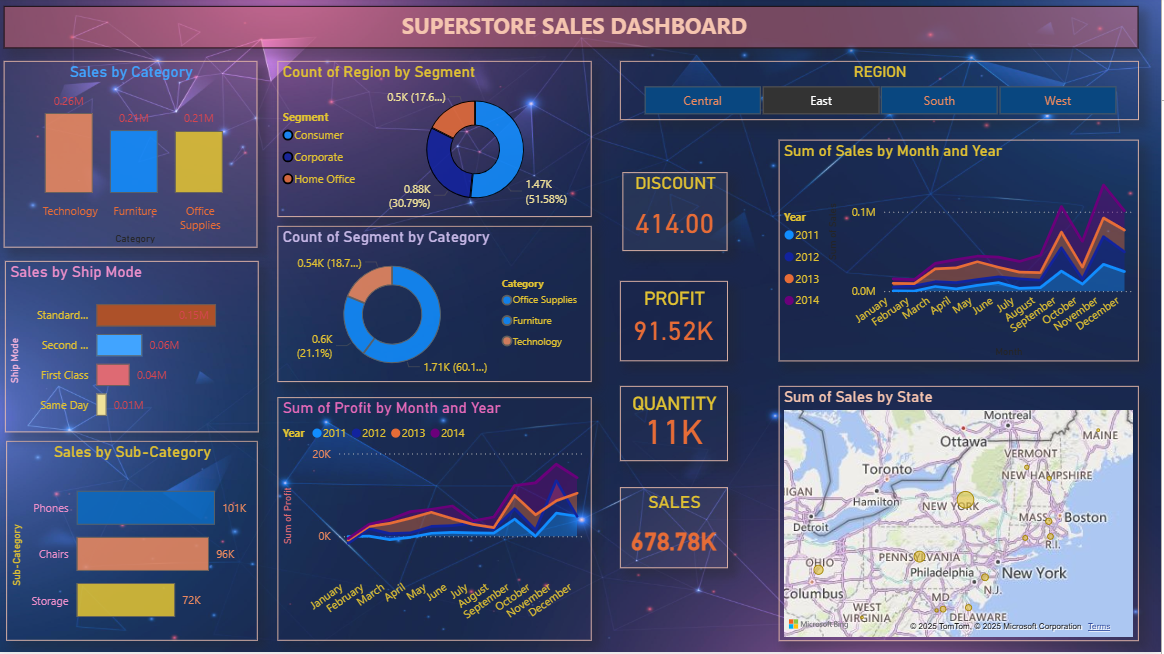

What the dashboard file says about the page in this screenshot:
{"tool":"powerbi","page":{"name":"Page 1","canvas":[1280,720],"ordinal":0},"visuals":[{"type":"clusteredColumnChart","title":"Sales by Category","fields":{"Y":["Sum(Orders.Sales)"],"Category":["Orders.Category"]},"box":[9.6,71.4,278.6,204.5],"z":1000},{"type":"slicer","title":"REGION","fields":{"Values":["Orders.Region"]},"box":[686.1,71.4,569.5,64.5],"z":2000},{"type":"stackedAreaChart","fields":{"Y":["Sum(Orders.Sales)"],"Category":["Orders.Order Date.Variation.Date Hierarchy.Month"],"Series":["Orders.Order Date.Variation.Date Hierarchy.Year"]},"box":[860.4,157.8,395.2,242.9],"z":4000},{"type":"stackedAreaChart","title":"Sum of Profit by Month and Year","fields":{"Category":["Orders.Order Date.Variation.Date Hierarchy.Month"],"Series":["Orders.Order Date.Variation.Date Hierarchy.Year"],"Y":["Sum(Orders.Profit)"]},"box":[310.1,440.5,344.4,267.6],"z":5000},{"type":"barChart","title":"Sales by Sub-Category","fields":{"Category":["Orders.Sub-Category"],"Y":["Sum(Orders.Sales)"]},"box":[12.3,488.5,275.8,219.6],"z":6000},{"type":"barChart","title":" Sales by Ship Mode","fields":{"Category":["Orders.Ship Mode"],"Y":["Sum(Orders.Sales)"]},"box":[11,290.9,278.6,188],"z":7000},{"type":"donutChart","fields":{"Y":["CountNonNull(Orders.Segment)"],"Category":["Orders.Category"]},"box":[310.1,252.5,344.4,171.5],"z":8000},{"type":"donutChart","fields":{"Category":["Orders.Segment"],"Y":["CountNonNull(Orders.Region)"]},"box":[310.1,71.4,344.4,171.5],"z":9000},{"type":"card","title":"PROFIT","fields":{"Values":["Sum(Orders.Profit)"]},"box":[686.1,312.9,118,87.8],"z":10000},{"type":"card","title":"SALES","fields":{"Values":["Sum(Orders.Sales)"]},"box":[686.1,539.3,118,89.2],"z":11000},{"type":"card","title":"QUANTITY","fields":{"Values":["Sum(Orders.Quantity)"]},"box":[686.1,428.1,118,82.3],"z":12000},{"type":"card","title":"DISCOUNT","fields":{"Values":["Sum(Orders.Discount)"]},"box":[688.9,193.5,115.3,86.4],"z":13000},{"type":"map","fields":{"Category":["Orders.State"],"Size":["Sum(Orders.Sales)"]},"box":[860.4,428.1,395.2,279.9],"z":14000},{"type":"textbox","box":[9.6,11,1246,46.7],"z":14001}]}

Visuals, with their boxes in screenshot pixels (x1, y1, x2, y2), scaled from the page's 1280x720 canvas onto the 1164x654 screenshot:
"Sales by Category" clusteredColumnChart: bbox(9, 65, 262, 251)
"REGION" slicer: bbox(624, 65, 1142, 123)
stackedAreaChart - Sum(Orders.Sales) x Orders.Order Date.Variation.Date Hierarchy.Month: bbox(782, 143, 1142, 364)
"Sum of Profit by Month and Year" stackedAreaChart: bbox(282, 400, 595, 643)
"Sales by Sub-Category" barChart: bbox(11, 444, 262, 643)
" Sales by Ship Mode" barChart: bbox(10, 264, 263, 435)
donutChart - CountNonNull(Orders.Segment) x Orders.Category: bbox(282, 229, 595, 385)
donutChart - Orders.Segment x CountNonNull(Orders.Region): bbox(282, 65, 595, 221)
"PROFIT" card: bbox(624, 284, 731, 364)
"SALES" card: bbox(624, 490, 731, 571)
"QUANTITY" card: bbox(624, 389, 731, 464)
"DISCOUNT" card: bbox(626, 176, 731, 254)
map - Orders.State x Sum(Orders.Sales): bbox(782, 389, 1142, 643)
textbox: bbox(9, 10, 1142, 52)
